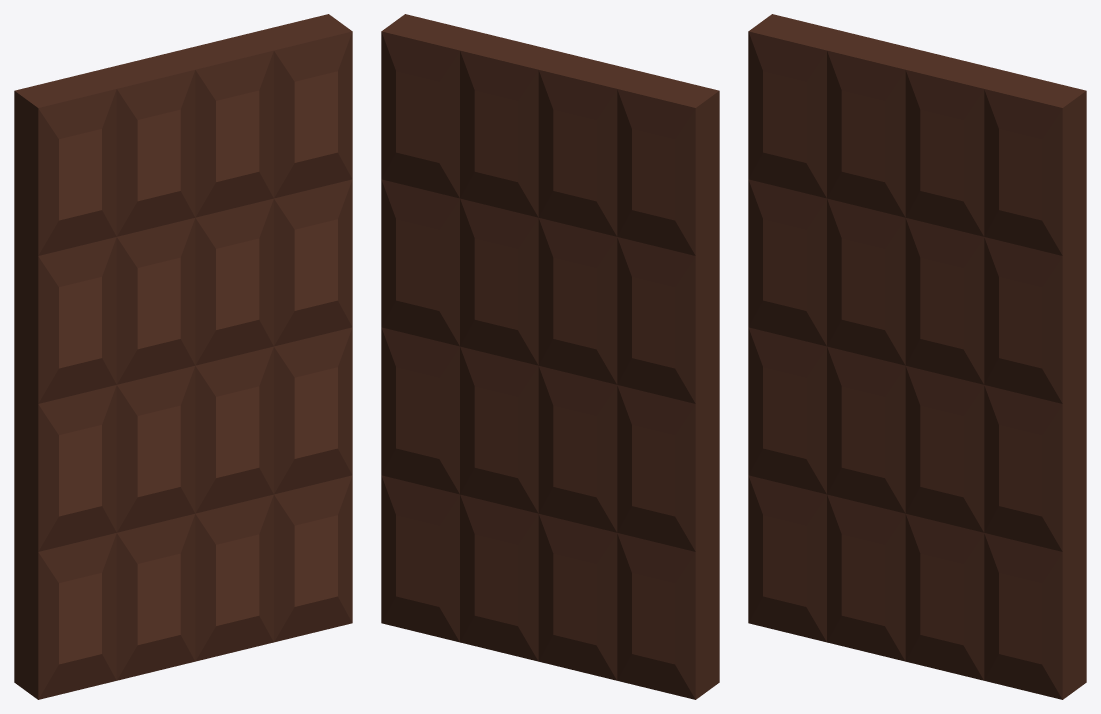
Rendered from choco.glb.
The picture shows the model from 3 angles, left to right: view 1: azimuth 30°, elevation 25°; view 2: azimuth 150°, elevation 25°; view 3: azimuth 330°, elevation 25°; orthographic projection.
Parts seen in each view (by area): view 1: Cube.003; view 2: Cube.003; view 3: Cube.003.
Part boxes in pixels (x1,y1,x2,y2): Cube.003: (14, 14, 352, 699); Cube.003: (381, 14, 719, 699); Cube.003: (748, 14, 1086, 699).
Bounding box in the file's own units: 0.1795 × 0.323 × 0.0295.
Materials: 1 (1 with a texture image).
